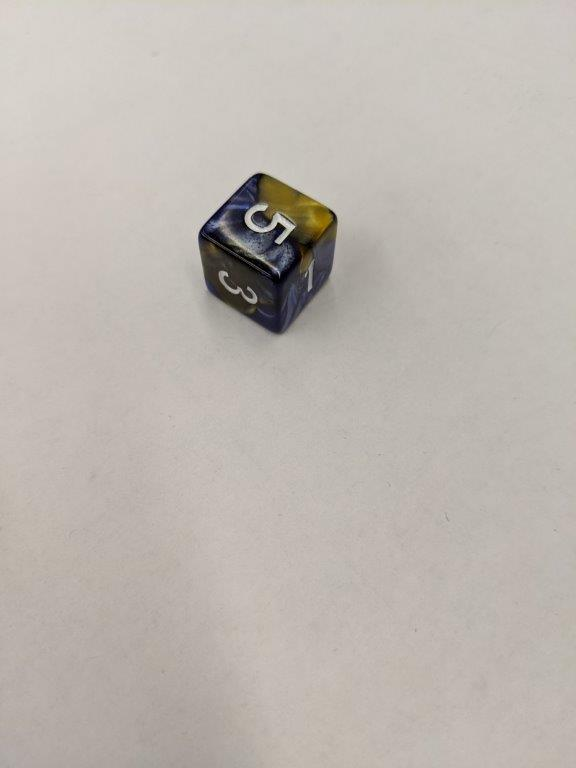d6-5: (197, 171, 340, 336)
